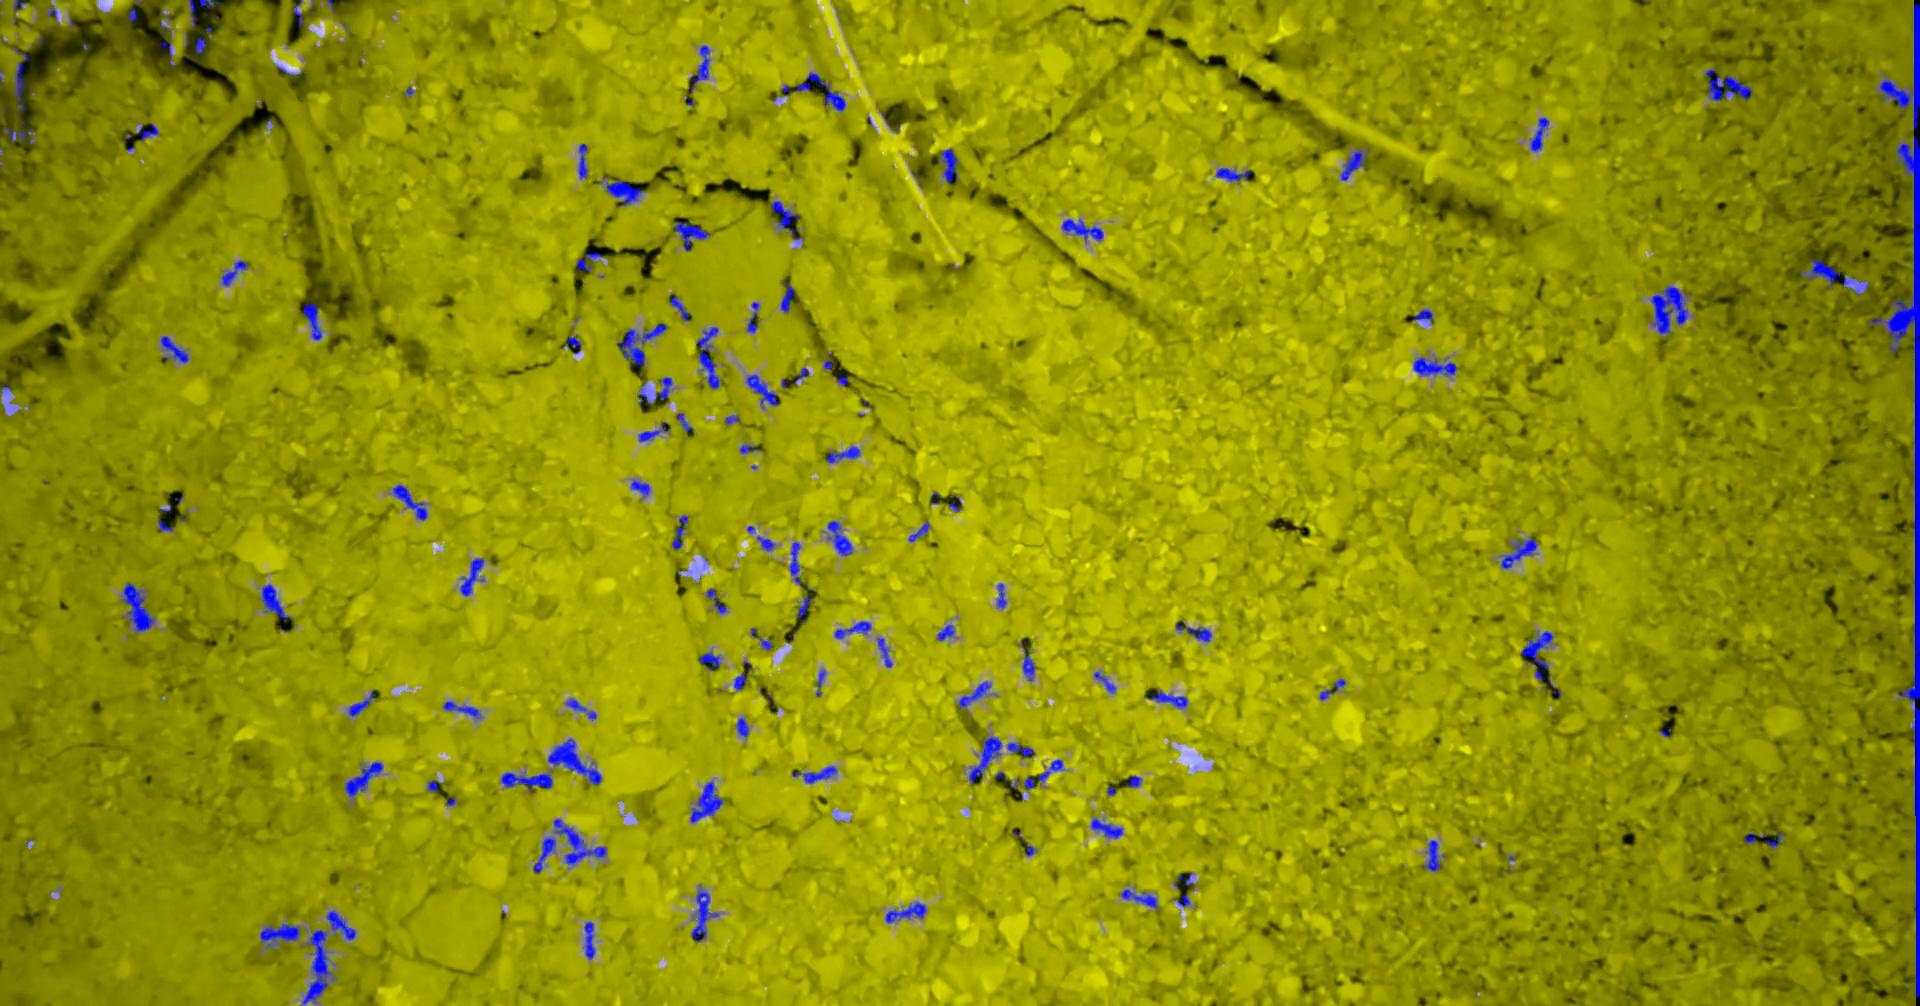ant: (300, 929, 335, 1005), (547, 738, 601, 784), (552, 818, 606, 864), (618, 323, 667, 366), (1520, 631, 1556, 688), (794, 72, 844, 111), (1650, 286, 1688, 334), (968, 735, 1001, 784), (121, 583, 152, 631), (1704, 69, 1751, 100), (344, 761, 383, 798), (691, 888, 717, 941), (696, 326, 719, 387), (690, 780, 723, 822), (770, 199, 801, 239), (392, 484, 427, 520), (672, 220, 710, 250), (1801, 259, 1840, 288), (1500, 537, 1537, 568), (745, 373, 778, 406), (13, 51, 29, 116), (262, 584, 291, 620), (1062, 218, 1103, 243), (500, 771, 552, 790), (259, 923, 298, 948), (604, 180, 643, 205), (827, 520, 852, 555), (690, 44, 709, 91), (957, 681, 990, 708), (884, 901, 924, 922), (326, 909, 356, 939), (1412, 357, 1457, 376), (1143, 688, 1187, 708), (460, 558, 483, 594), (532, 836, 555, 873), (1340, 150, 1366, 180), (791, 765, 836, 782), (159, 335, 188, 362), (188, 0, 218, 25), (301, 302, 321, 340), (1175, 621, 1211, 641), (1120, 888, 1157, 908), (348, 688, 375, 716), (1090, 817, 1123, 838), (1422, 840, 1444, 871), (833, 620, 870, 638), (1529, 117, 1548, 151), (637, 420, 669, 441), (221, 260, 248, 285), (938, 149, 957, 182), (442, 701, 480, 718), (1020, 640, 1035, 680), (1743, 832, 1783, 847), (565, 699, 596, 718), (670, 514, 687, 549), (789, 541, 801, 586), (4, 124, 33, 144), (1037, 760, 1062, 782), (825, 446, 858, 462), (669, 295, 690, 320), (706, 588, 726, 614), (1319, 678, 1345, 699), (1215, 166, 1251, 180), (780, 281, 795, 312), (1093, 671, 1115, 692), (876, 636, 891, 667), (575, 251, 599, 271), (653, 376, 670, 401), (796, 589, 811, 619), (908, 521, 930, 541), (745, 301, 759, 332), (698, 652, 720, 669), (584, 921, 594, 958), (137, 123, 157, 141), (1007, 742, 1032, 756), (563, 334, 580, 353), (676, 412, 693, 431), (630, 479, 649, 495), (578, 144, 587, 178), (936, 624, 954, 640), (815, 669, 825, 696), (1413, 309, 1432, 323), (756, 536, 775, 550), (737, 716, 748, 737), (997, 583, 1006, 607), (733, 673, 745, 690), (1125, 775, 1142, 788), (739, 445, 762, 453), (194, 37, 204, 53), (1176, 893, 1189, 906), (427, 780, 441, 791), (1023, 776, 1034, 789)
